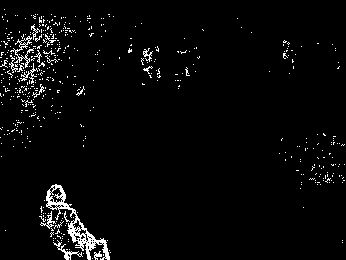person: (41, 182, 112, 259)
